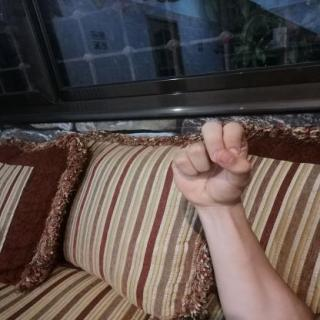QAAF: (160, 113, 264, 214)
